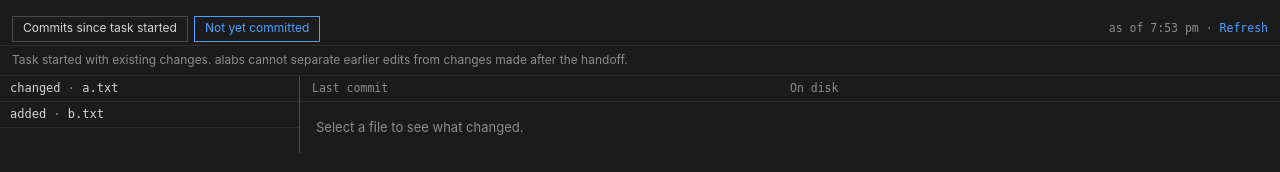
Test: modes and listings › a dirty baseline offers Commits since task started and Not yet committed separately with the sentence, never Since task started
The width and height of the screenshot is (1280, 172).
Click the button with class "chip" showing "Commits since task started".
click(100, 28)  # box top-left (12, 16), bottom-right (188, 42)
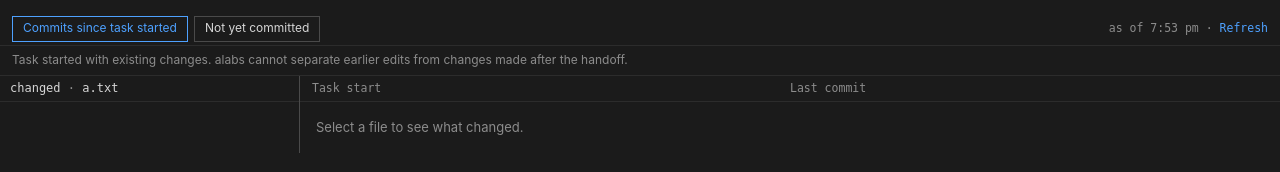
Expected: the text "Last commit" is shown, top-left (790, 80), bottom-right (866, 94)
Now the text "On disk" is gone
